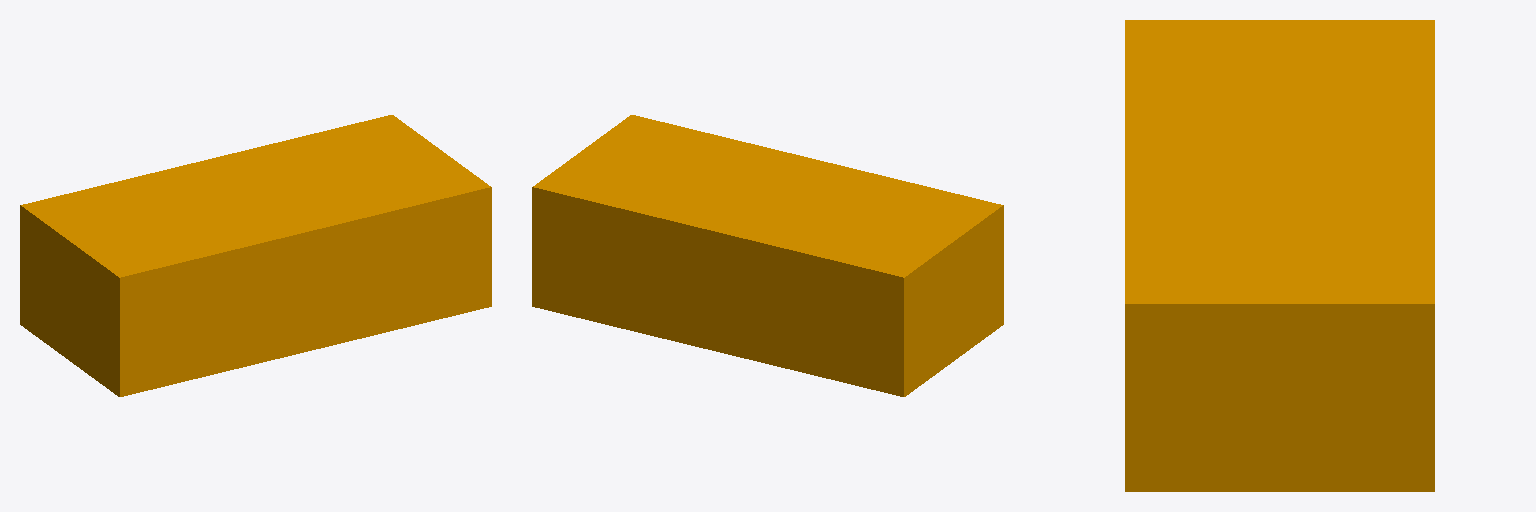
robot.urdf — 2x2:
<?xml version='1.0' encoding='UTF-8'?>
<robot name="2x2">
  <link name="base_link">
    <inertial>
      <origin xyz="0.0 0.0 0.0" rpy="0.0 0.0 0.0"/>
      <mass value="0.01"/>
      <inertia ixx="0.1" ixy="0.0" ixz="0.0" iyy="0.1" iyz="0.0" izz="0.1"/>
    </inertial>
    <visual>
      <geometry>
        <box size="0.039 0.018 0.012"/>
      </geometry>
      <material name=""/>
      <origin xyz="0.0 0.0 0.0" rpy="0.0 0.0 0.0"/>
    </visual>
    <collision>
      <geometry>
        <box size="0.039 0.018 0.012"/>
      </geometry>
      <origin xyz="0.0 0.0 0.0" rpy="0.0 0.0 0.0"/>
    </collision>
  </link>
  <material name="">
    <color rgba="0.667 0.541 0.857 1.   "/>
  </material>
  <contact>
    <lateral_friction value="1.0"/>
    <rolling_friction value="0.0"/>
    <contact_cfm value="0.0"/>
    <contact_erp value="1.0"/>
  </contact>
</robot>

--- Facts derived from the render (not from the file) ---
Views: 3 orthographic renders of the robot side by side, from view 1: azimuth 30°, elevation 25°; view 2: azimuth 150°, elevation 25°; view 3: azimuth 270°, elevation 25°.
Model 2x2 with 1 links and 0 joints (none), rooted at base_link, posed every joint at zero.
Visible links, largest first — view 1: base_link; view 2: base_link; view 3: base_link.
Link boxes in pixels (x1,y1,x2,y2): base_link: (20, 115, 491, 396); base_link: (532, 115, 1003, 396); base_link: (1125, 20, 1434, 491).
Size in the robot's own frame: 0.039 by 0.018 by 0.012 metres.
Geometry: primitives only (box / cylinder / sphere), no mesh files.